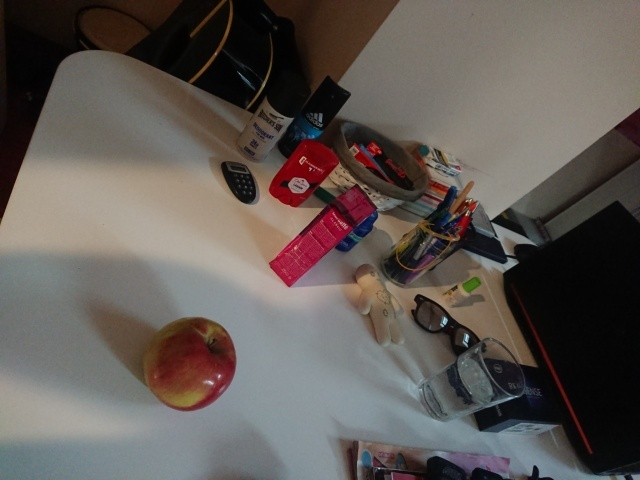Barcaffe Classic Original 225g: (267, 182, 380, 289)
